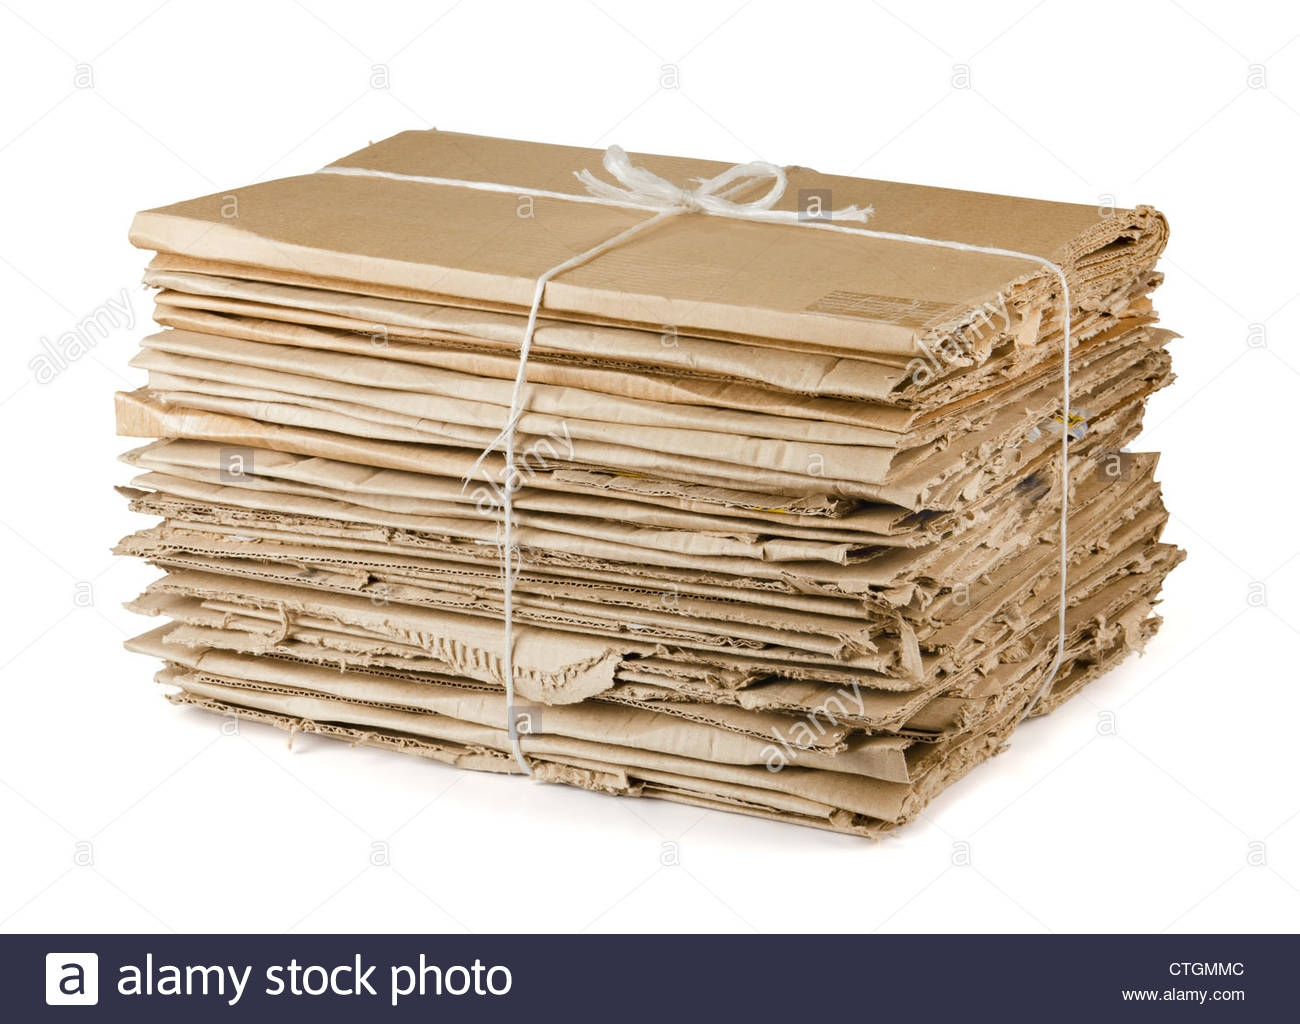paper: (71, 476, 1207, 850), (93, 111, 1178, 402), (80, 276, 1143, 520)
